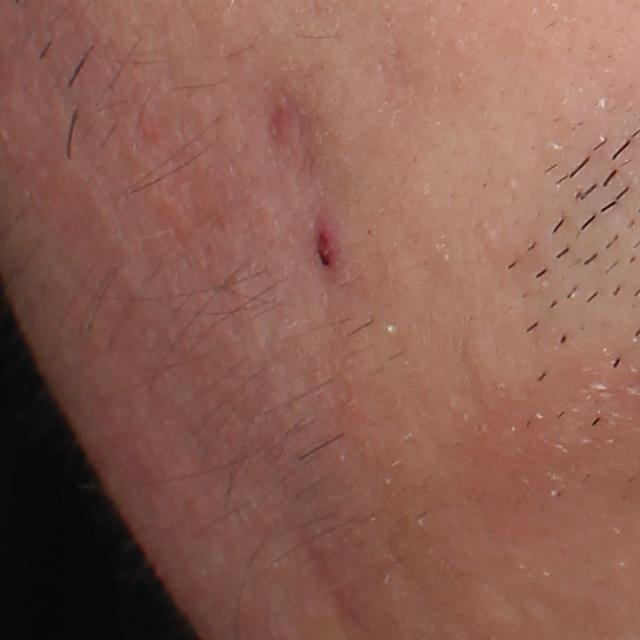papule: (305, 215, 347, 288)
